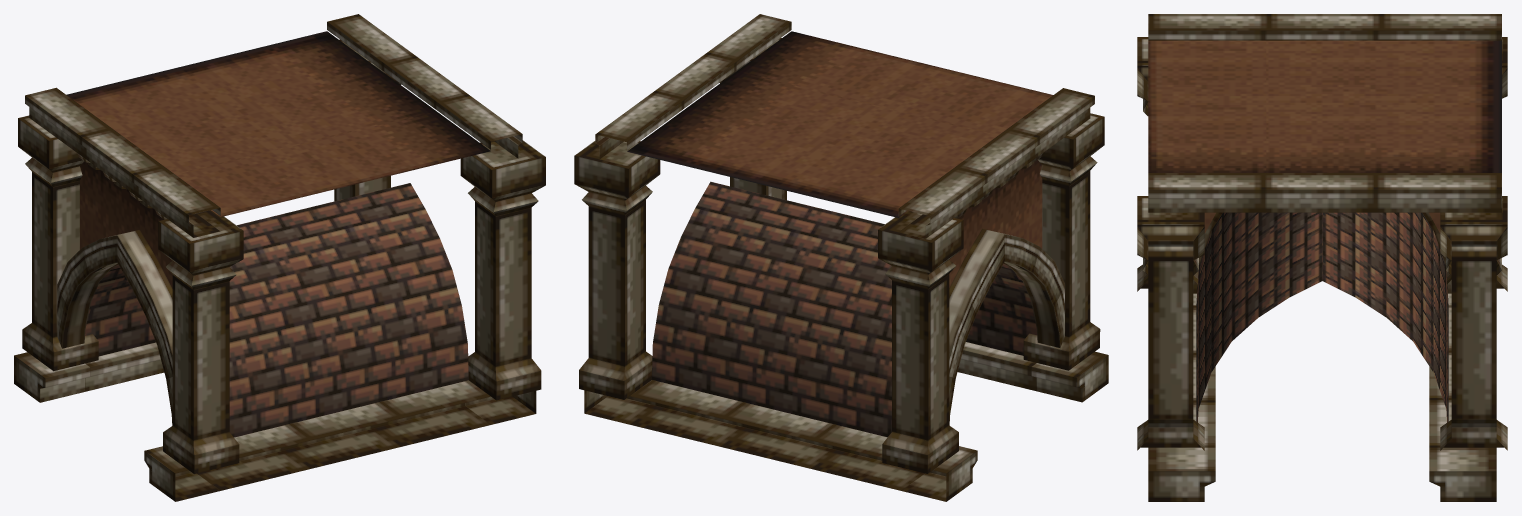
Rendered from EnvBdgMD_Sea_A_Outdoor_Arch_A.FBX.
3 views of the same model, side by side, from view 1: azimuth 30°, elevation 25°; view 2: azimuth 150°, elevation 25°; view 3: azimuth 270°, elevation 25° (orthographic). The views are drawn at different scales.
Parts seen in each view (by area): view 1: EnvBdgMD_Sea_A_Outdoor_Arch_A; view 2: EnvBdgMD_Sea_A_Outdoor_Arch_A; view 3: EnvBdgMD_Sea_A_Outdoor_Arch_A.
Boxes of the visible parts, x1,y1,x2,y2 form: EnvBdgMD_Sea_A_Outdoor_Arch_A: [14, 14, 545, 501]; EnvBdgMD_Sea_A_Outdoor_Arch_A: [574, 14, 1108, 501]; EnvBdgMD_Sea_A_Outdoor_Arch_A: [1137, 14, 1507, 501].
Size of the model in its own units: 405 by 300 by 330.
Materials: 3 (3 with a texture image).
